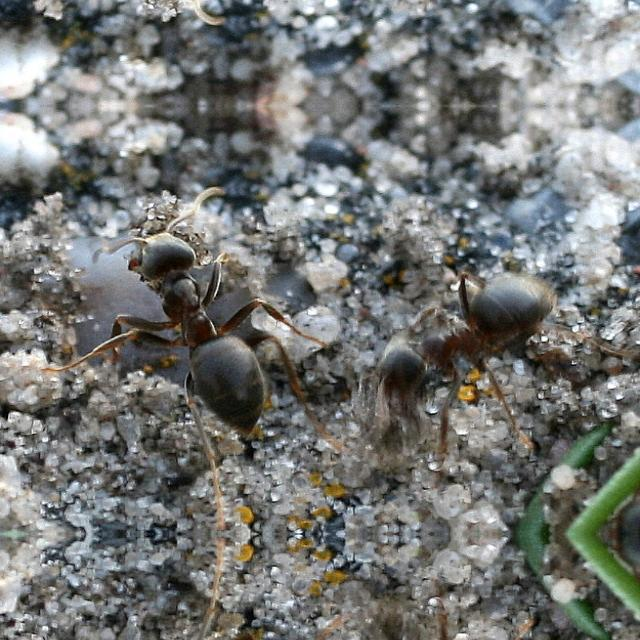Lasius: (99, 182, 301, 484), (346, 222, 588, 463)
